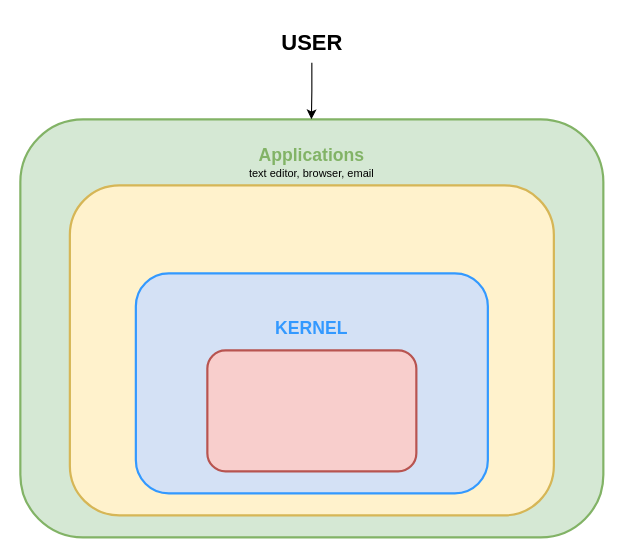
Image size: 623x558. Some labels were removed from this diagram. The shapes that lost their labels are listed below. From the top down, each one's box as (x1, y1, x2, y2) in pixels, then its label:
(68, 184, 554, 516): SHELL / USER INTERFACE bash, csh, zsh, tcsh, GUI
(206, 349, 417, 472): HARDWARE CPU, Memory, HDD
